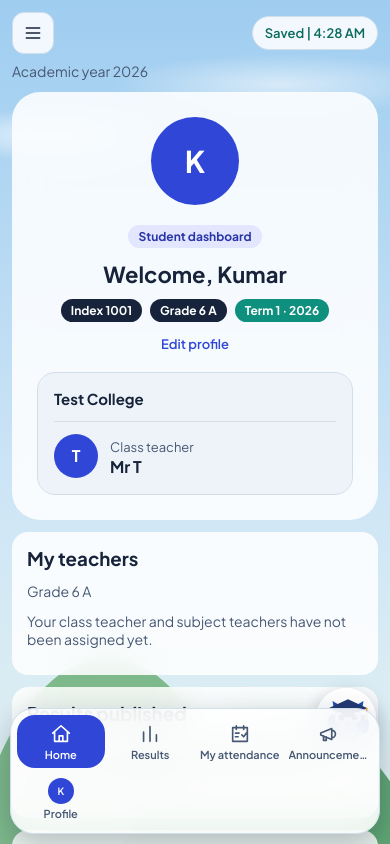
Test: admin, teacher and student dashboards › shows Results and My attendance in the student mobile quick navigation
Expected: the button "Results" is shown, x1=106 y1=715 x2=194 y2=768
Expected: the element with class "saved" is shown, x1=252 y1=16 x2=378 y2=50
Click the button "My attendance" at (240, 742), box x1=196 y1=715 x2=284 y2=768
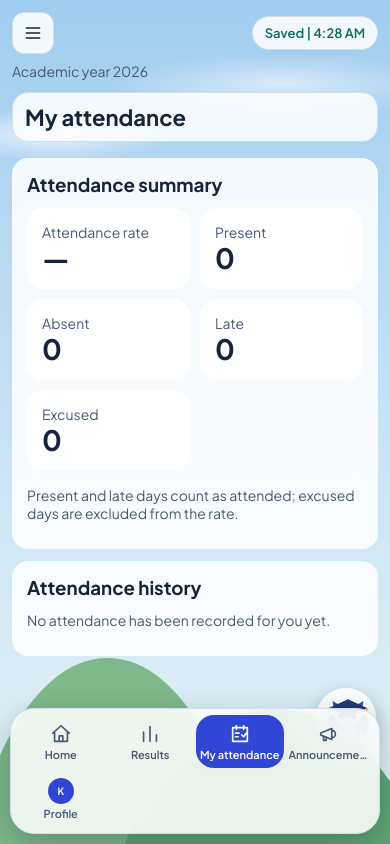
Now the heading "My attendance" is shown, box x1=25 y1=103 x2=186 y2=131
